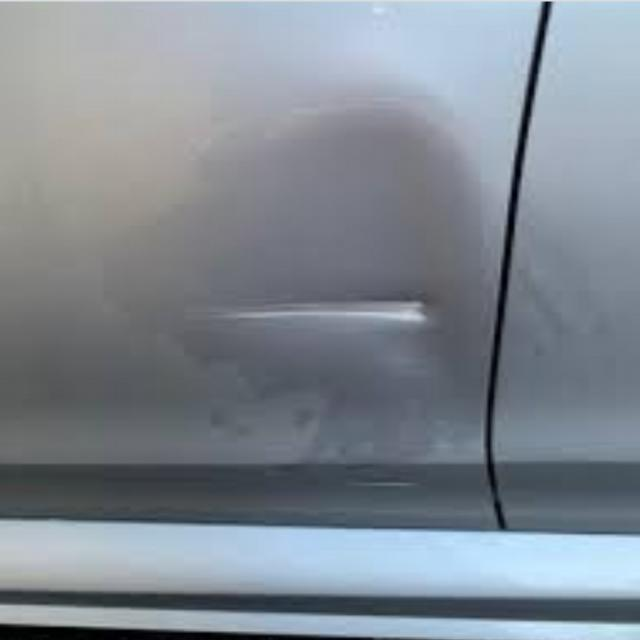dents: (133, 216, 483, 402)
